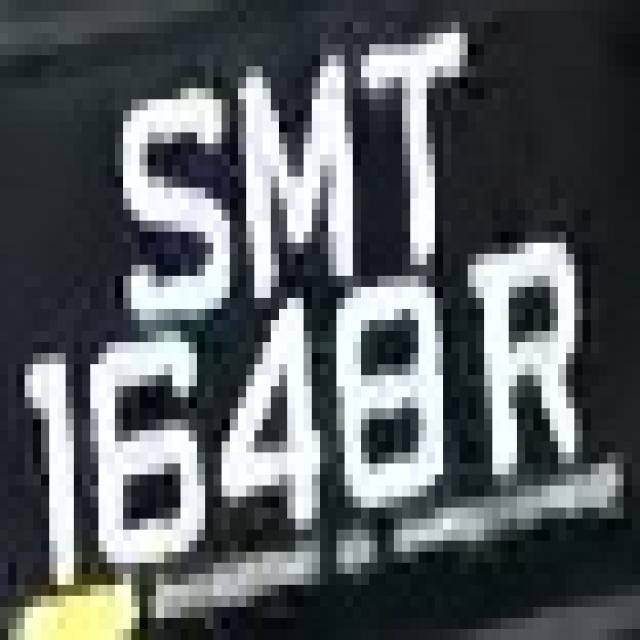1: (0, 287, 90, 618)
4: (189, 287, 328, 552)
6: (66, 298, 222, 574)
8: (304, 242, 459, 518)
M: (213, 55, 361, 320)
R: (460, 243, 607, 474)
S: (98, 66, 238, 331)
T: (345, 22, 492, 276)
